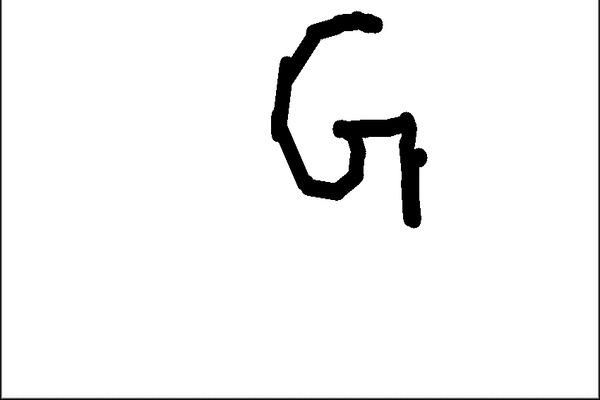G: (264, 5, 429, 232)
